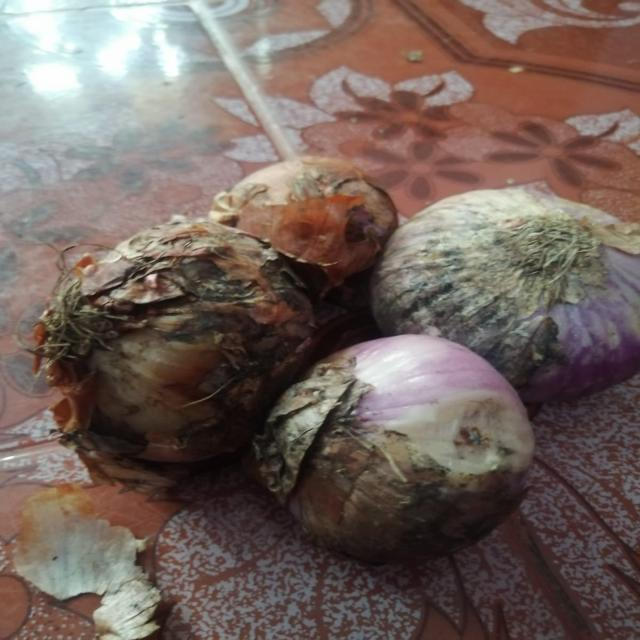rotten: (290, 424, 486, 538), (403, 243, 539, 352), (120, 266, 241, 384), (269, 177, 370, 246)
